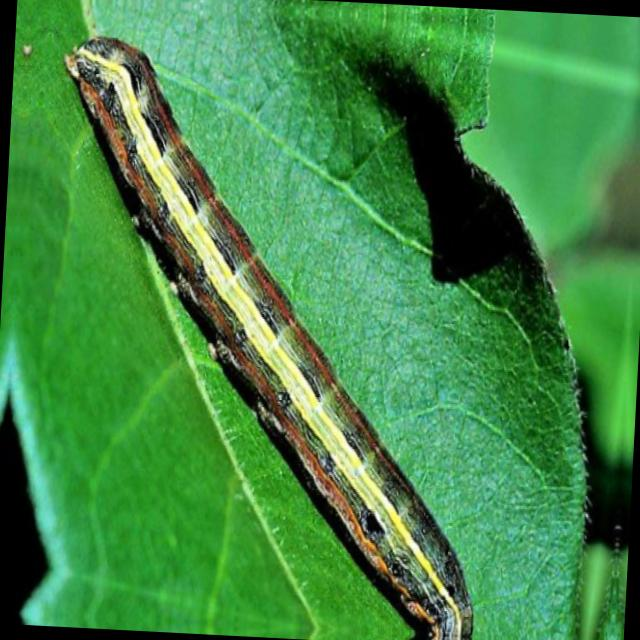Armyworm: (26, 19, 524, 640)
